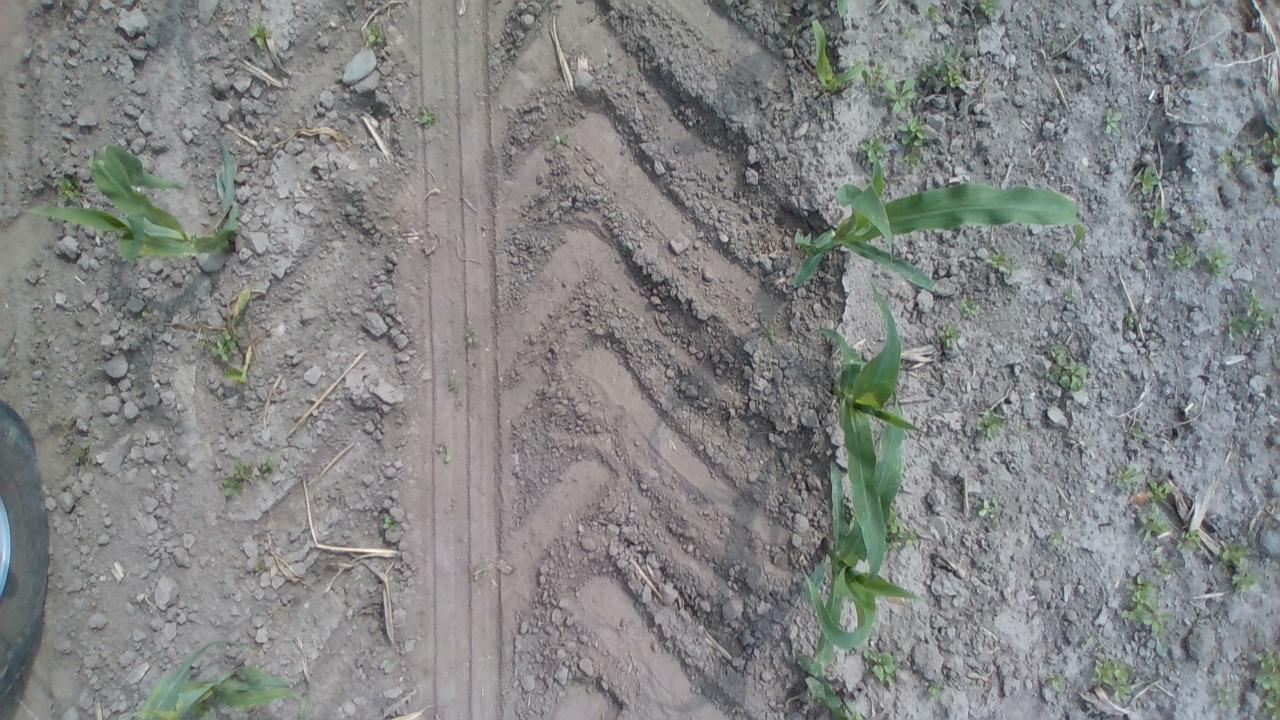Maize: (778, 164, 1089, 294), (806, 396, 926, 678), (22, 124, 244, 264), (825, 279, 925, 583), (128, 633, 318, 720), (796, 658, 868, 720), (804, 23, 868, 92)
Weeds: (1120, 572, 1174, 654), (216, 458, 282, 502), (1221, 290, 1279, 339), (1214, 538, 1258, 598), (919, 44, 970, 92), (1088, 653, 1138, 697), (1254, 638, 1280, 720), (1046, 343, 1088, 388), (900, 112, 929, 172), (880, 80, 919, 122), (858, 644, 898, 684), (1131, 502, 1169, 542), (882, 513, 924, 549), (240, 18, 280, 55), (983, 248, 1028, 279), (972, 494, 1013, 526), (68, 438, 104, 474), (972, 407, 1008, 443), (1165, 237, 1202, 271), (1130, 165, 1168, 196), (203, 334, 242, 364), (1139, 204, 1177, 234), (1112, 461, 1144, 496), (1206, 245, 1236, 282), (952, 292, 987, 323), (857, 136, 890, 168), (933, 320, 964, 354), (1125, 416, 1154, 452), (409, 103, 444, 132), (1172, 524, 1202, 557), (1254, 132, 1280, 168), (362, 24, 397, 50), (1212, 682, 1238, 714), (1147, 479, 1177, 506), (860, 58, 884, 90), (1100, 108, 1126, 137), (1036, 668, 1070, 690), (1152, 556, 1175, 588), (891, 13, 920, 38), (441, 374, 468, 400), (246, 554, 274, 579), (377, 510, 405, 535), (1214, 148, 1240, 174), (460, 328, 485, 354), (1190, 214, 1214, 240), (1236, 144, 1262, 168), (552, 128, 580, 150), (970, 0, 1004, 18), (54, 178, 79, 202), (1120, 307, 1142, 334), (922, 1, 944, 27), (1056, 285, 1079, 307), (845, 703, 873, 720), (928, 682, 946, 708), (1048, 530, 1064, 552)
